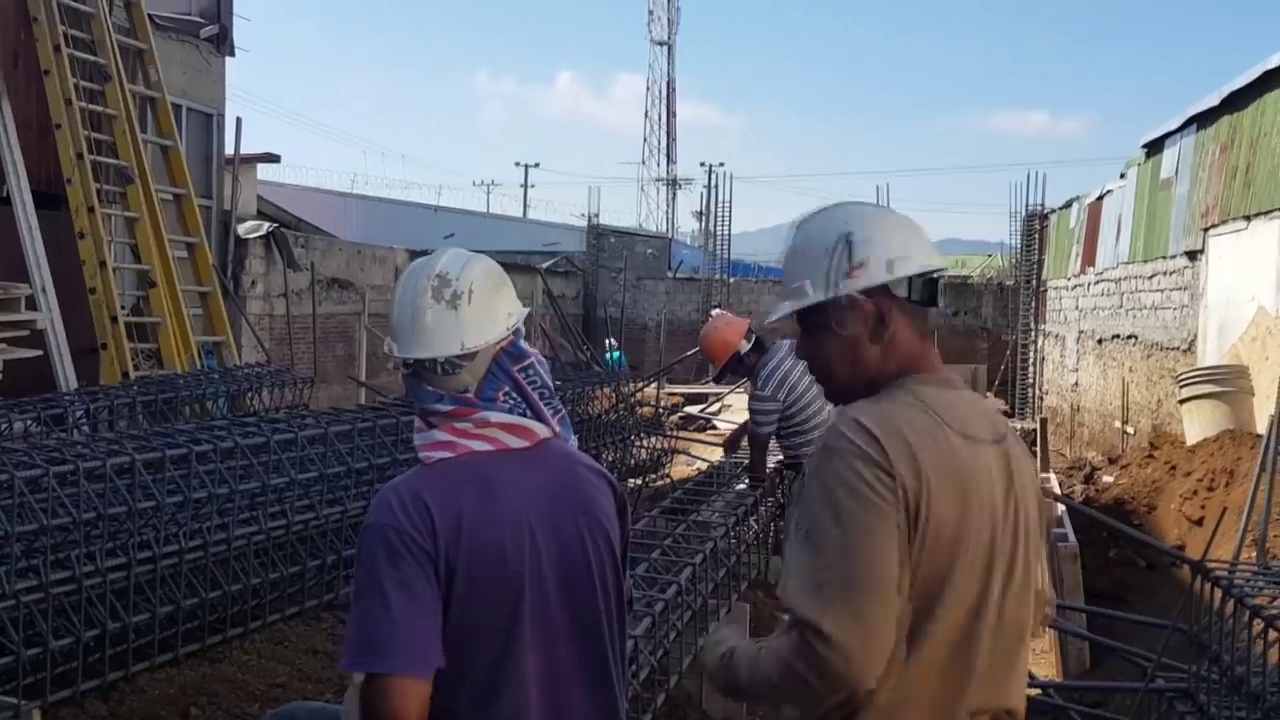helmet: (759, 207, 952, 327), (382, 245, 530, 364), (699, 310, 751, 378), (604, 338, 618, 351)
helmet-on: (760, 207, 955, 411), (384, 243, 571, 454), (700, 305, 780, 385), (604, 337, 620, 354)
person: (705, 206, 1042, 713), (348, 243, 628, 720), (701, 303, 838, 522), (604, 337, 627, 374)
